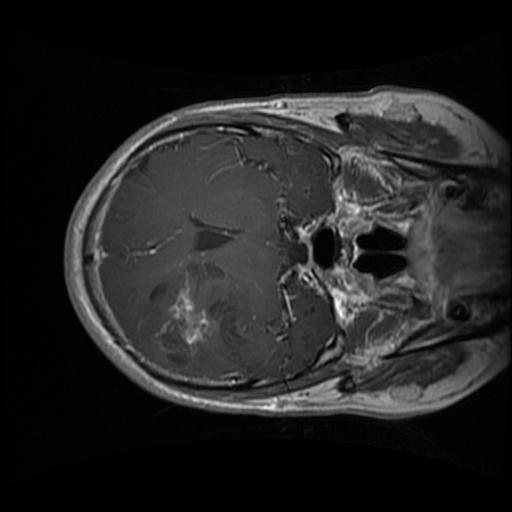glioma: (147, 261, 246, 373)
